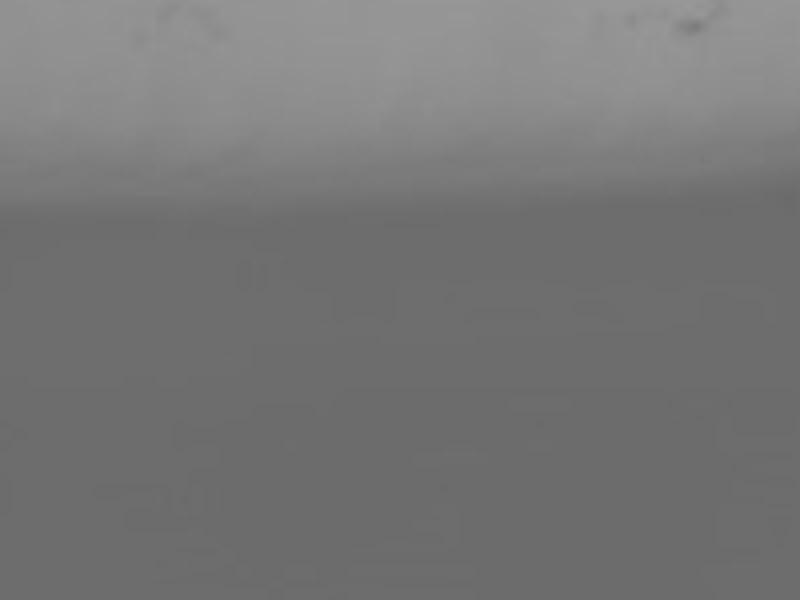defect: (680, 19, 704, 36), (711, 2, 731, 22), (623, 9, 638, 28)
